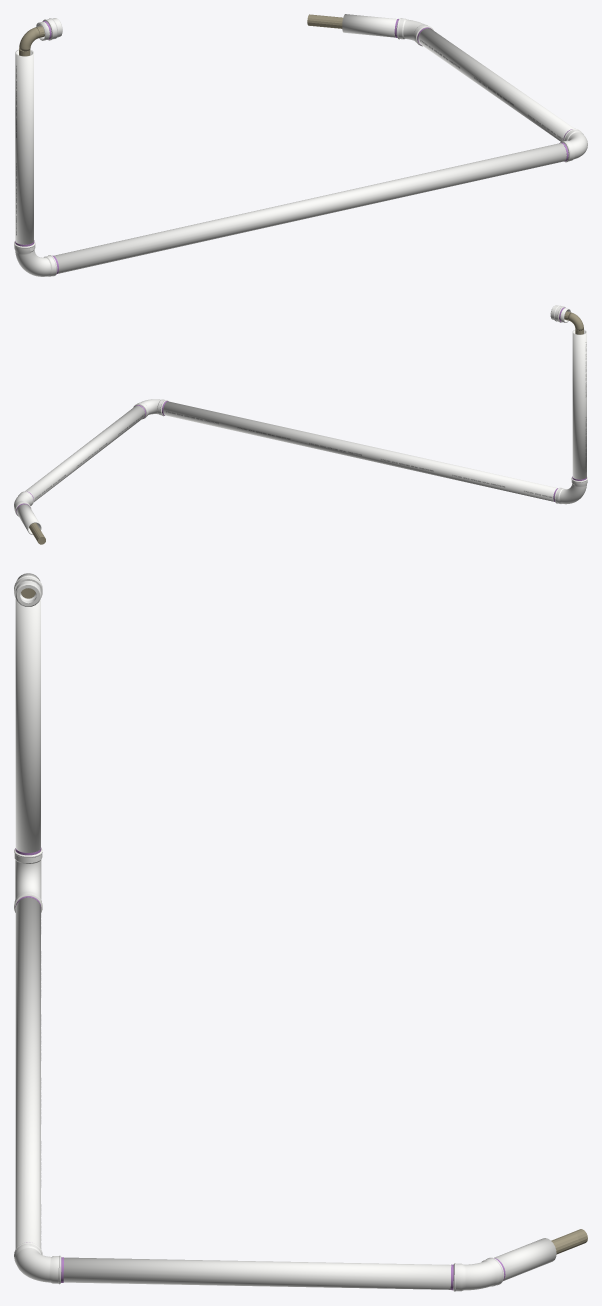
The model's file is slab_pipes_dwv__sewer__ebde3d46.glb.
3 views of the same model, one above another, from view 1: azimuth 30°, elevation 25°; view 2: azimuth 150°, elevation 25°; view 3: azimuth 270°, elevation 25° (orthographic). The views are drawn at different scales.
Visible parts, largest first — view 1: pipe_dwv_kitchen__quarter, flow_waste_pipe_dwv_kitchen__quarter; view 2: pipe_dwv_kitchen__quarter, flow_waste_pipe_dwv_kitchen__quarter; view 3: pipe_dwv_kitchen__quarter.
Part boxes in pixels (x1=…): pipe_dwv_kitchen__quarter: x1=14, y1=14, x2=587, y2=276; flow_waste_pipe_dwv_kitchen__quarter: x1=19, y1=14, x2=342, y2=56; pipe_dwv_kitchen__quarter: x1=14, y1=308, x2=587, y2=534; flow_waste_pipe_dwv_kitchen__quarter: x1=29, y1=311, x2=583, y2=544; pipe_dwv_kitchen__quarter: x1=14, y1=573, x2=556, y2=1291.
Size of the model in its own units: 2.12 by 0.9611 by 1.37.
